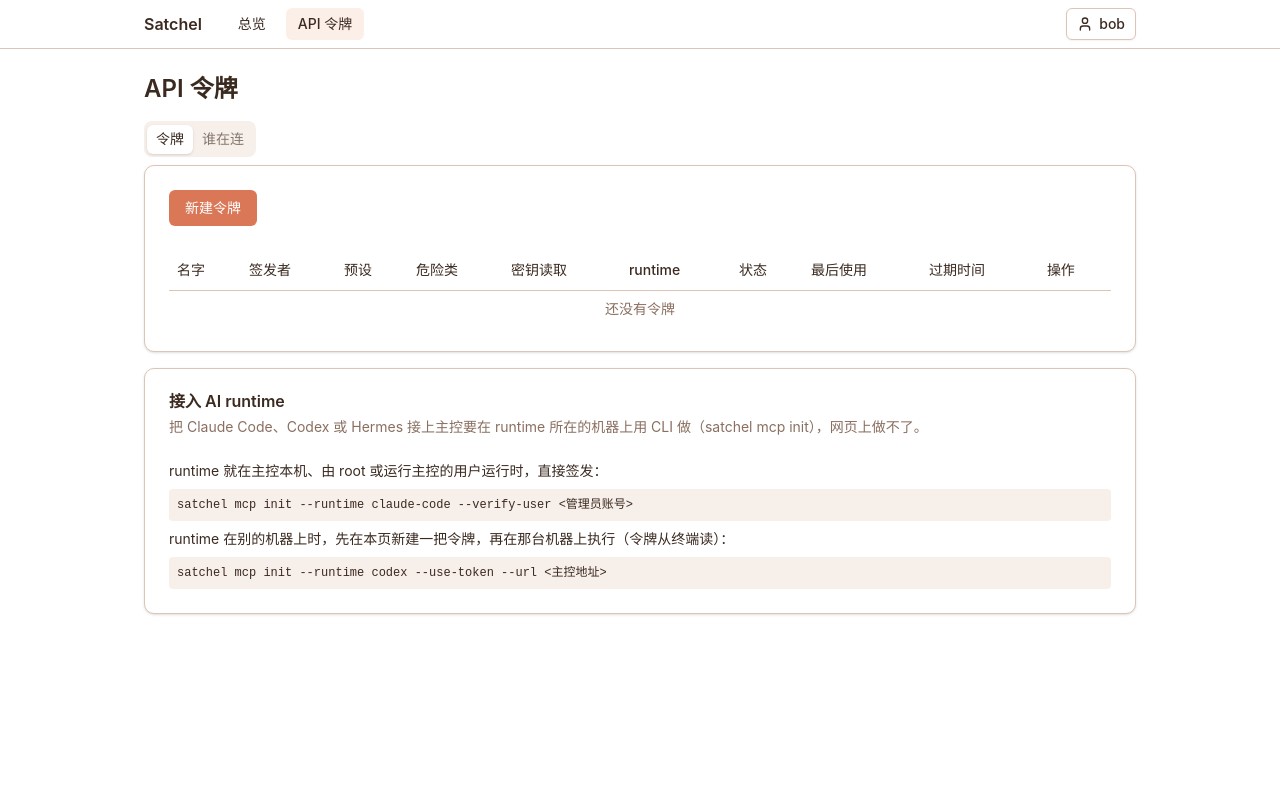
Test: API 令牌页 › 普通用户签危险类：显示主控的 forbidden
This screenshot has width=1280, height=800.
Click the button "新建令牌" at coordinates (213, 208), box [169,190,257,226]
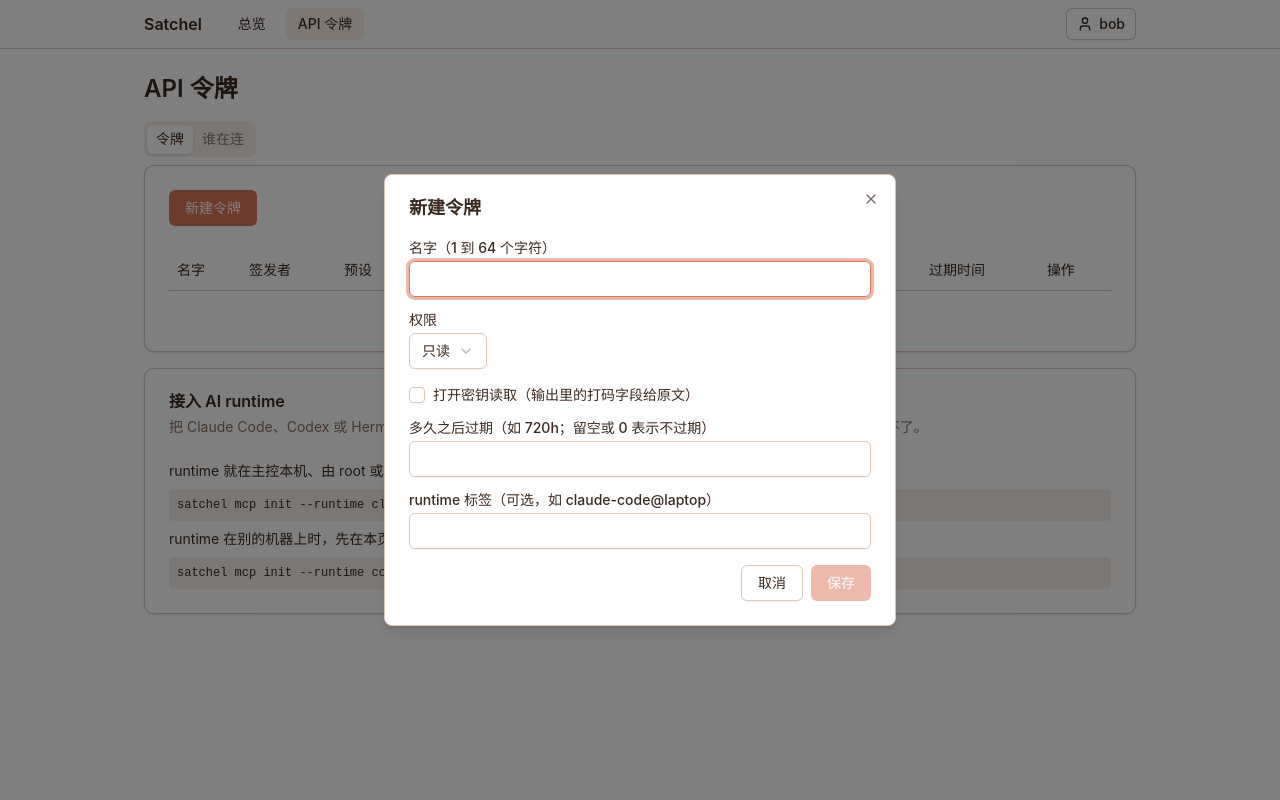
Type "x" into the field labelled "名字（1 到 64 个字符）" at coordinates (640, 279), box [409,261,871,297]
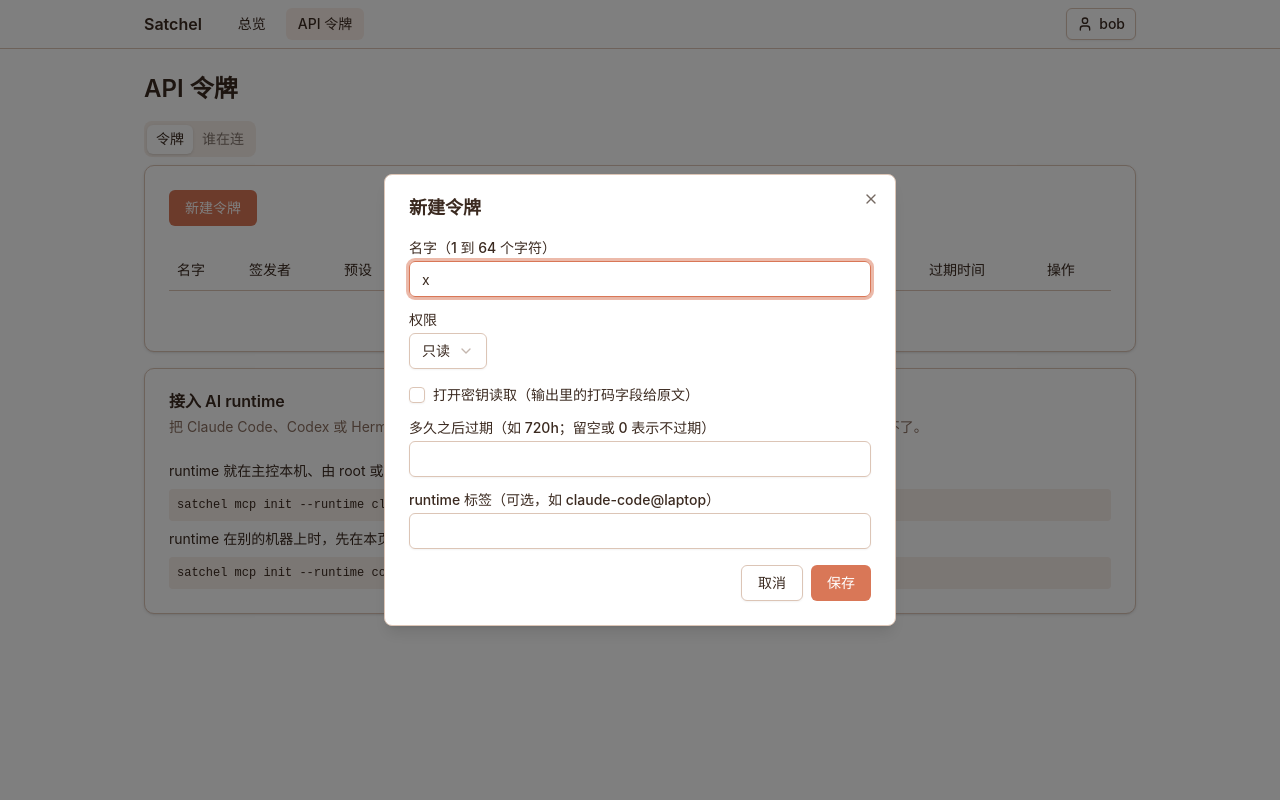
Click the button "保存" at coordinates (841, 583), box [811,565,871,601]
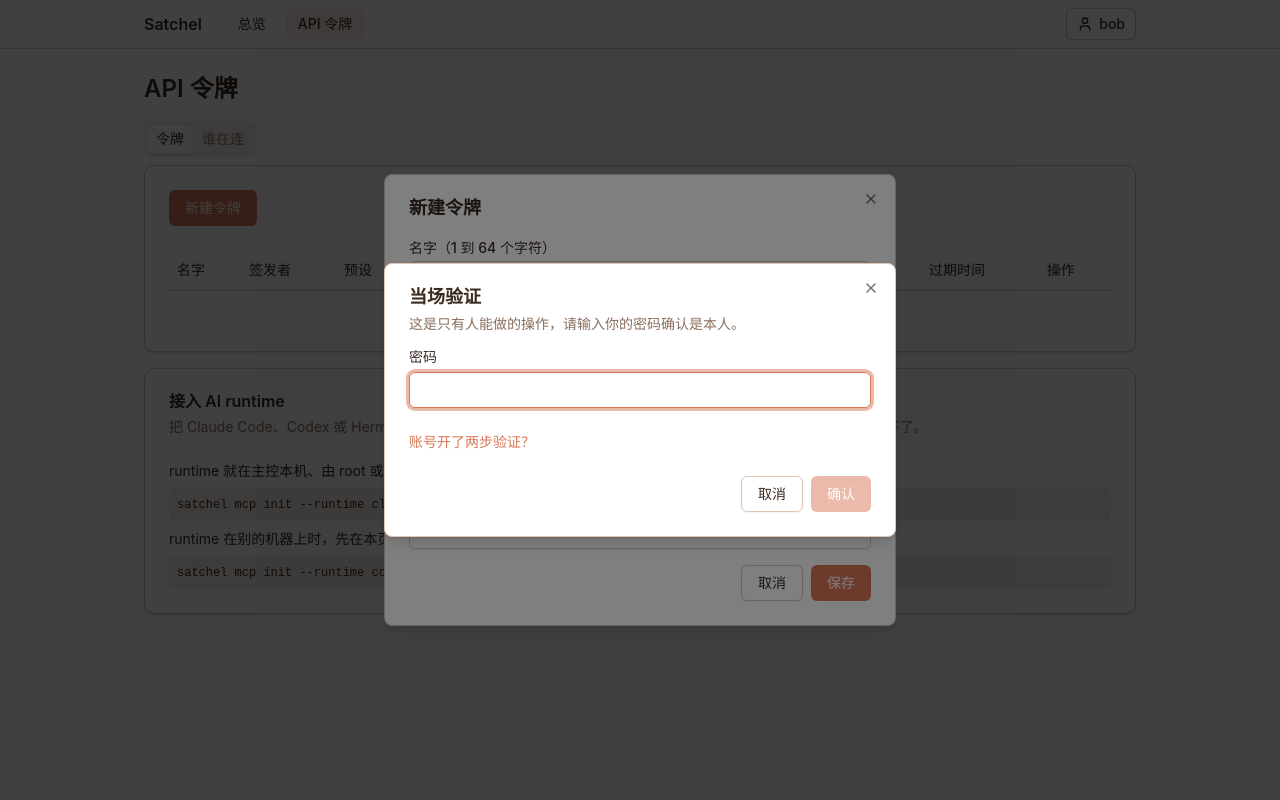
Type "secret12" into the password field labelled "密码" at coordinates (640, 390), box [409,372,871,408]
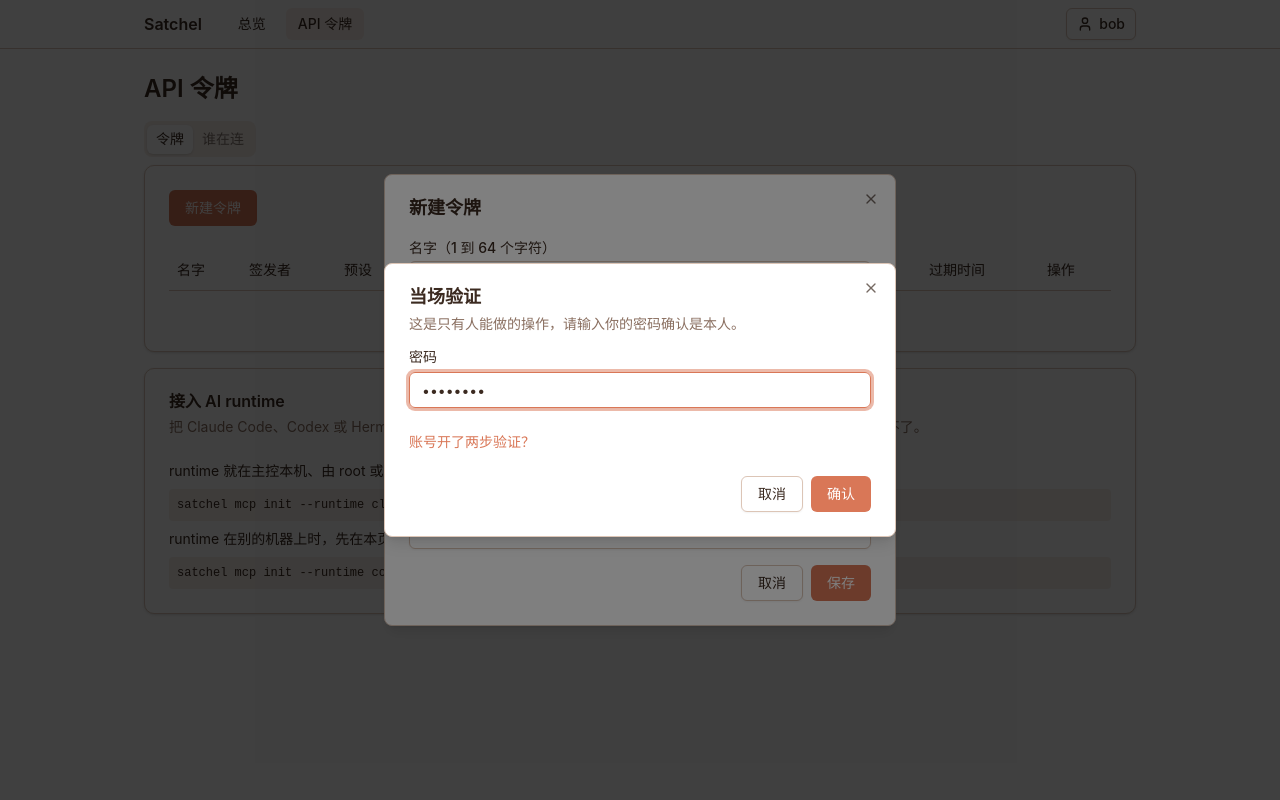
Click the button "确认" at coordinates (841, 494), box [811,476,871,512]
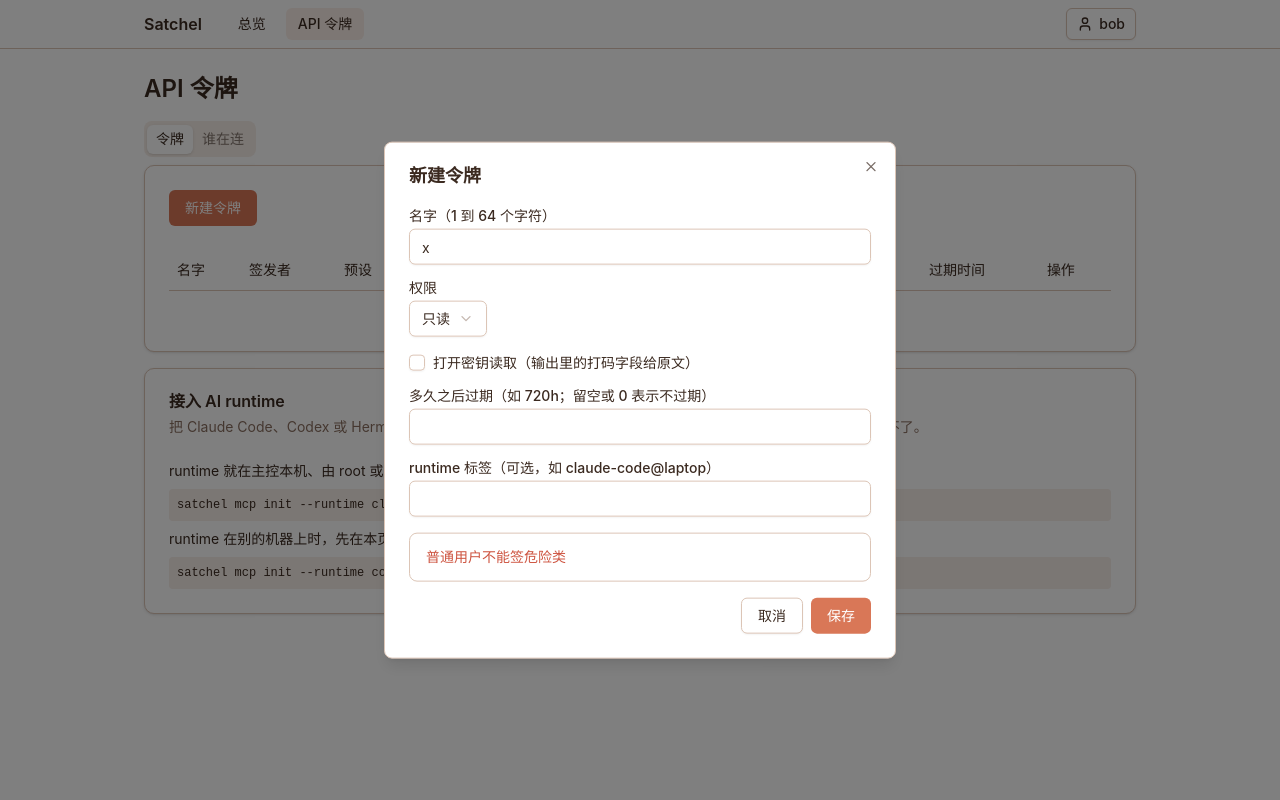
Expected: the text "普通用户不能签危险类" is shown, [426,546,566,568]
